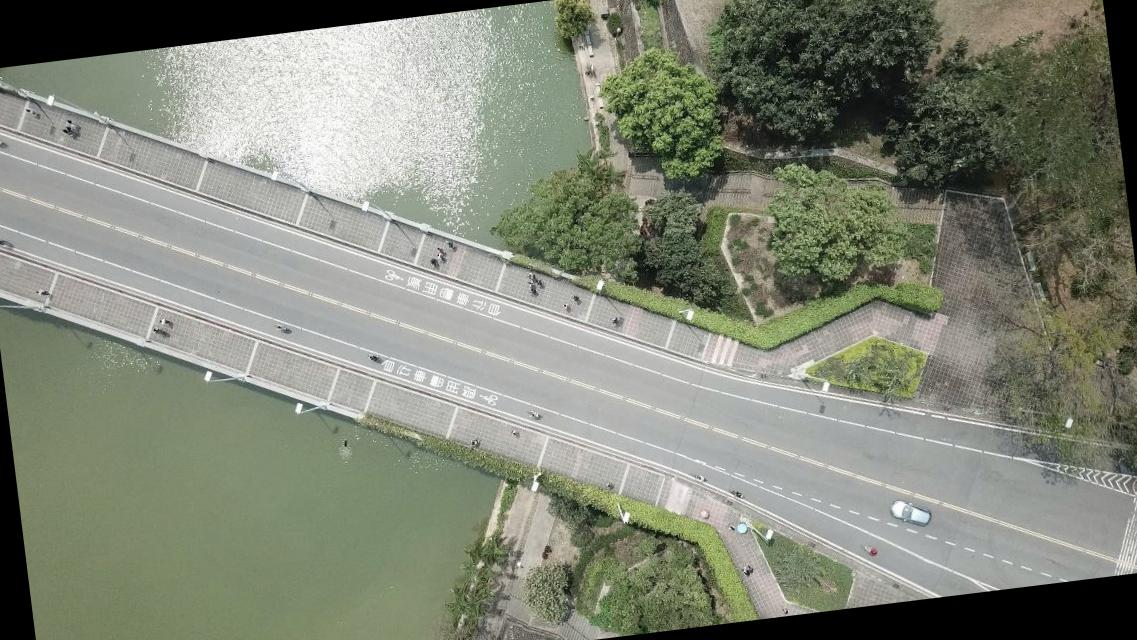vehicle: (888, 496, 932, 530)
